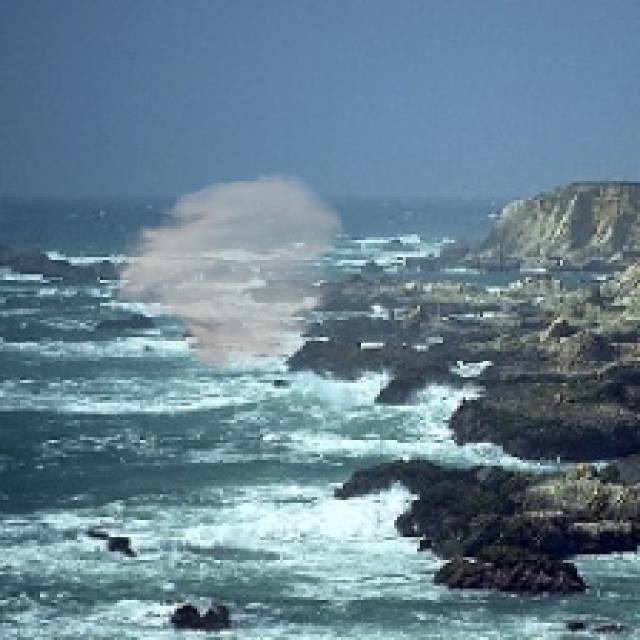smoke: (100, 172, 349, 374)
